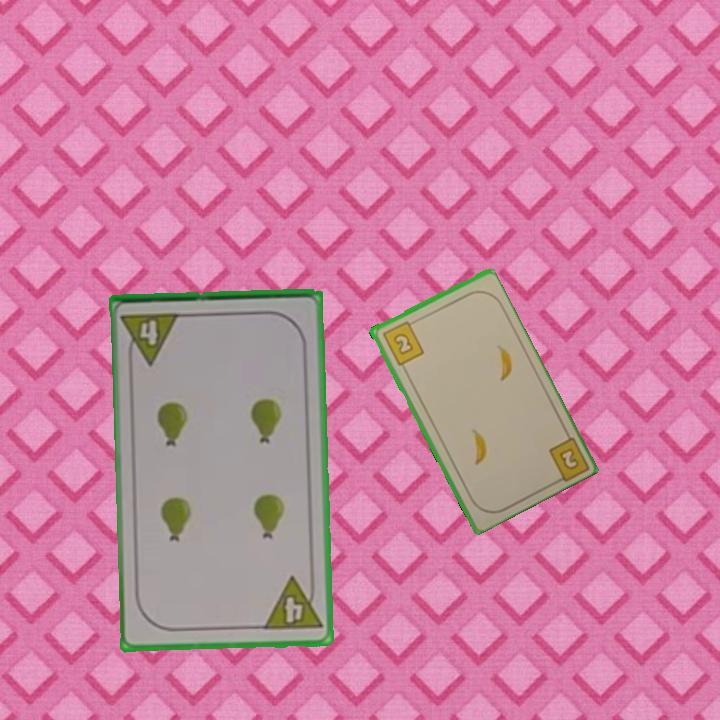2b: (379, 317, 427, 368), (555, 444, 582, 473)
4p: (260, 573, 325, 634), (118, 309, 183, 367)
